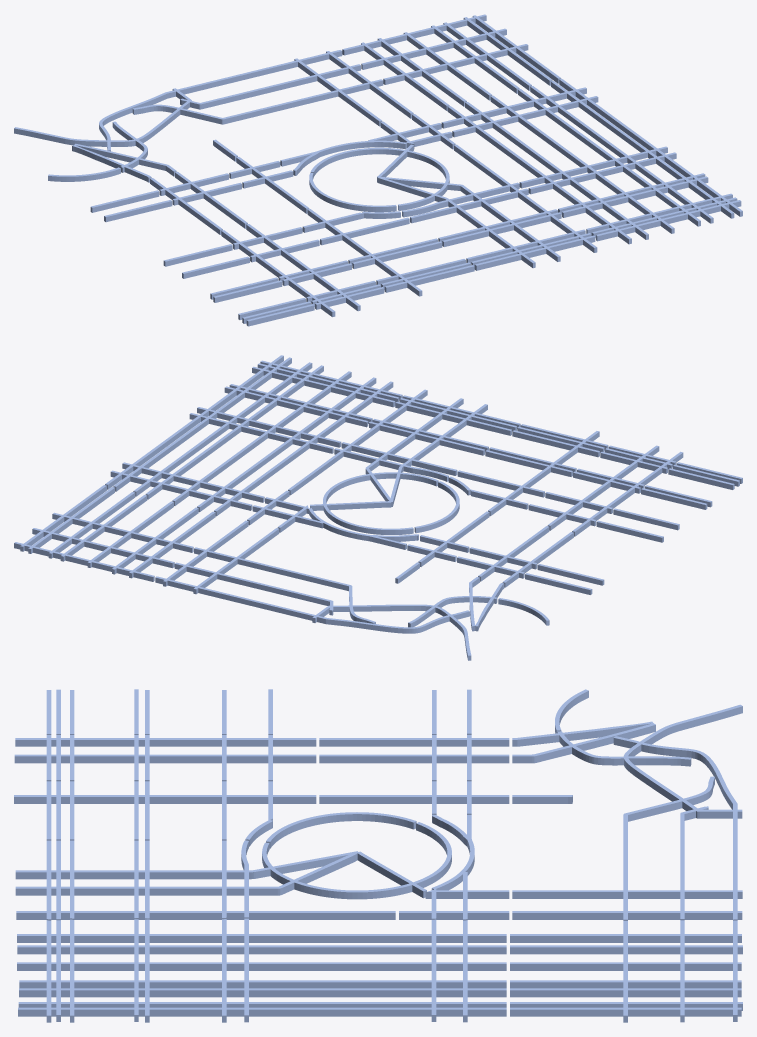
Rendered from major_roads.glb.
3 renders of one model, top to bottom at view 1: azimuth 30°, elevation 25°; view 2: azimuth 150°, elevation 25°; view 3: azimuth 270°, elevation 25°, orthographic. The views are drawn at different scales.
Visible parts, largest first — view 1: world; view 2: world; view 3: world.
Part boxes in pixels (bbox=[...]): world: bbox=[14, 14, 742, 326]; world: bbox=[14, 355, 742, 660]; world: bbox=[14, 689, 742, 1022].
Size of the model in its own units: 100 by 1 by 94.89.
